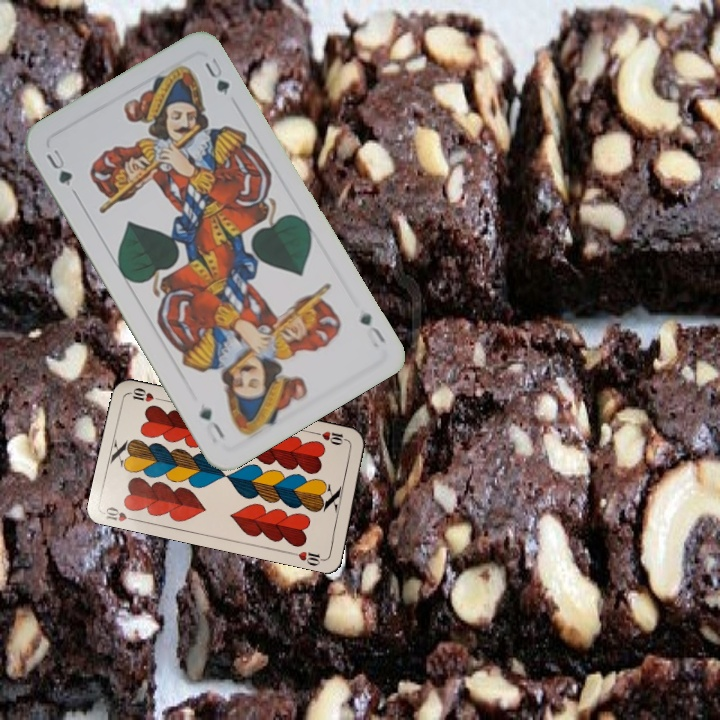GU: (42, 145, 79, 197), (355, 307, 389, 347)
H10: (100, 503, 141, 524), (311, 427, 351, 448)
